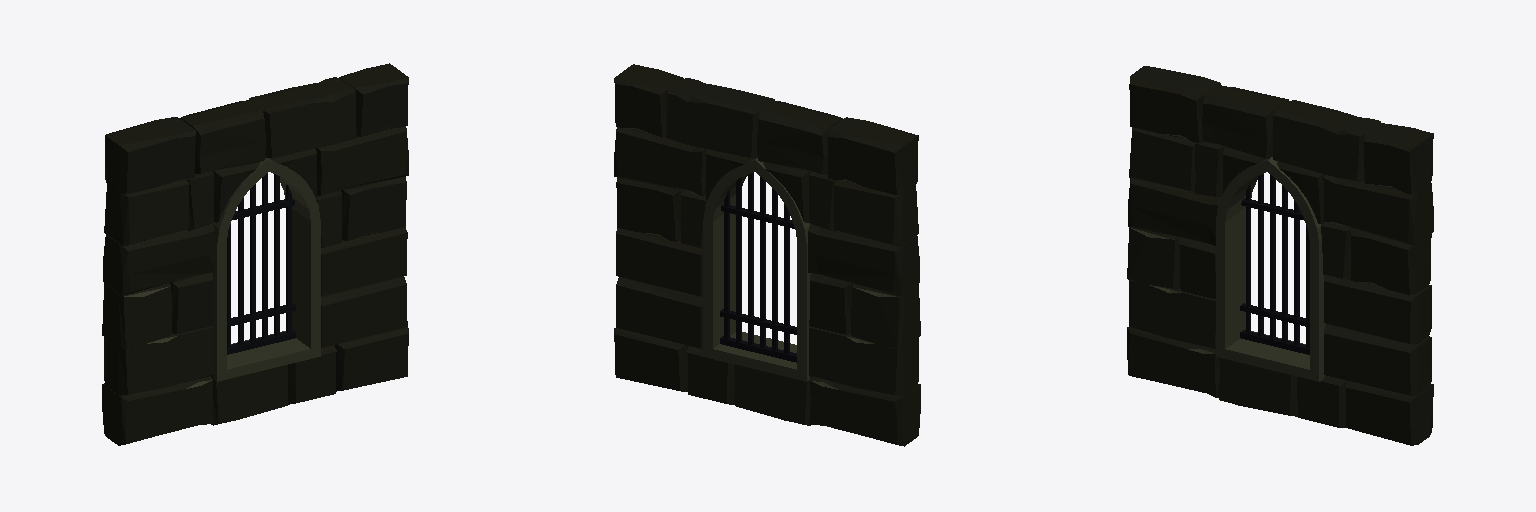
File: Window_Bars.obj
The picture shows the model from 3 angles: view 1: azimuth 30°, elevation 25°; view 2: azimuth 150°, elevation 25°; view 3: azimuth 330°, elevation 25°; orthographic projection.
Parts seen in each view (by area): view 1: Window_Bars; view 2: Window_Bars; view 3: Window_Bars.
Boxes of the visible parts, box(x1,y1,x2,y2) form: Window_Bars: box(102, 63, 408, 445); Window_Bars: box(614, 64, 920, 446); Window_Bars: box(1127, 66, 1433, 445).
Size of the model in its own units: 1.99 by 1.99 by 0.3029.